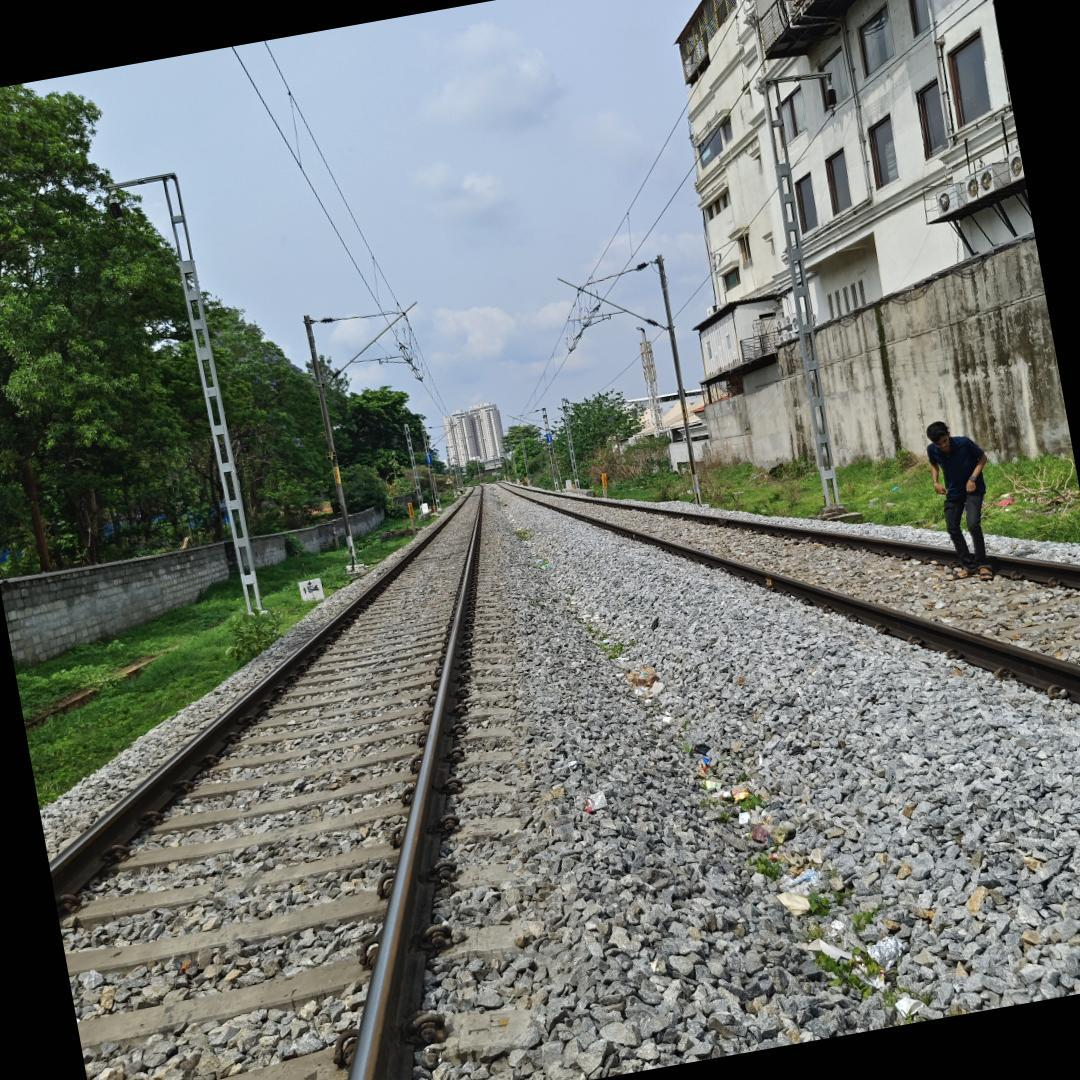standing: (900, 401, 1016, 592)
track: (49, 479, 492, 1080), (504, 483, 1080, 726)
